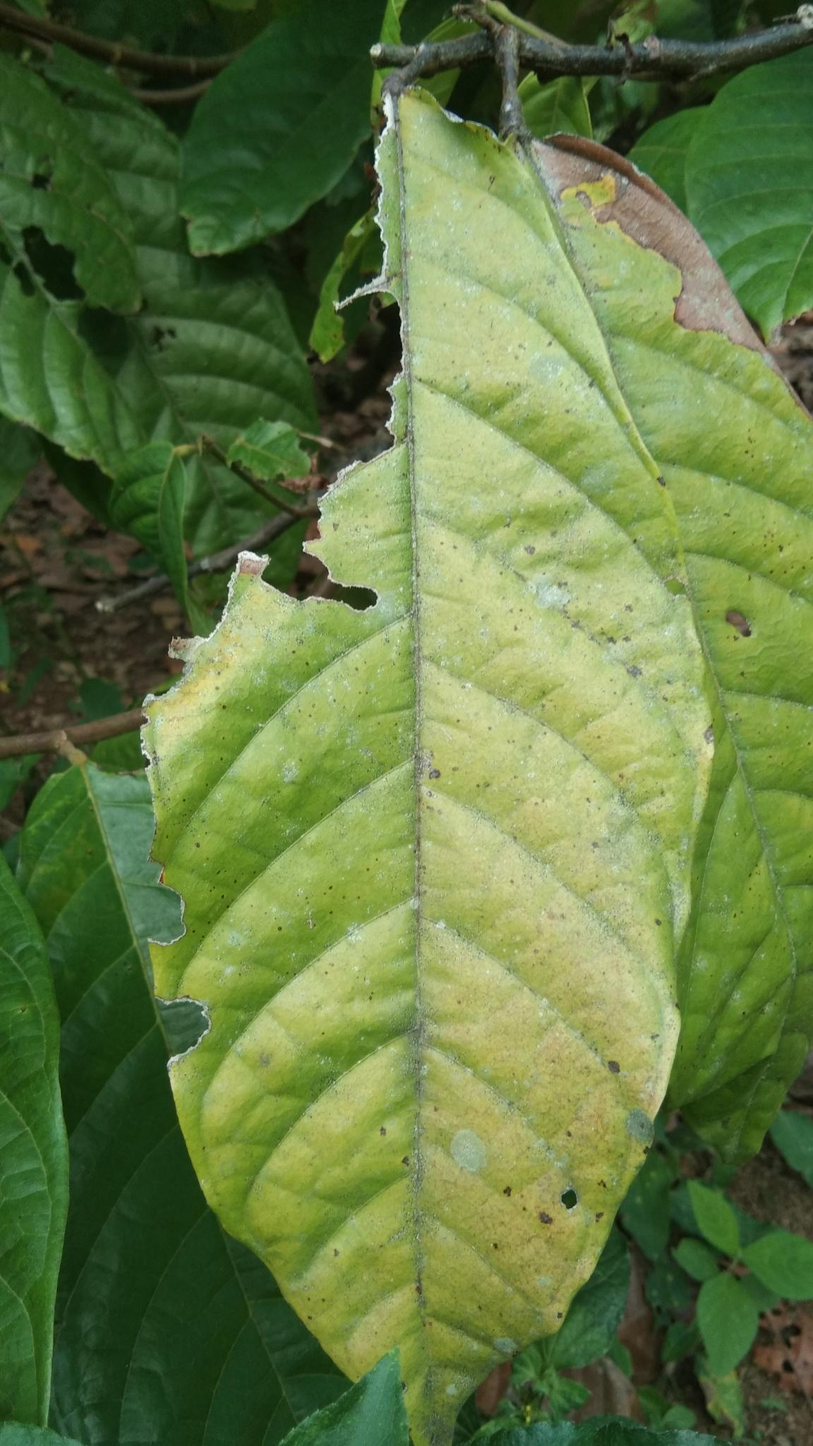Fosforo: (139, 42, 730, 1376)
